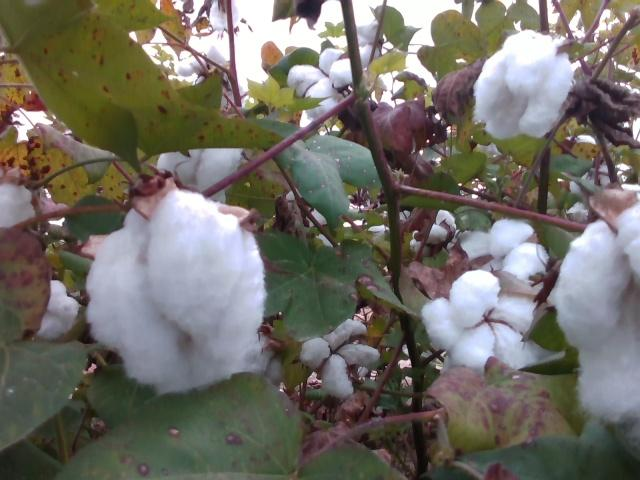cotton_ready: (84, 191, 266, 394), (555, 206, 640, 422), (422, 269, 547, 374), (475, 30, 572, 140), (457, 219, 552, 294), (301, 319, 381, 399), (156, 148, 245, 207), (288, 47, 354, 117), (288, 190, 358, 248), (566, 162, 630, 222), (178, 49, 235, 111), (37, 281, 79, 338), (410, 211, 456, 254), (0, 179, 36, 232), (355, 22, 384, 65), (211, 0, 240, 29)
